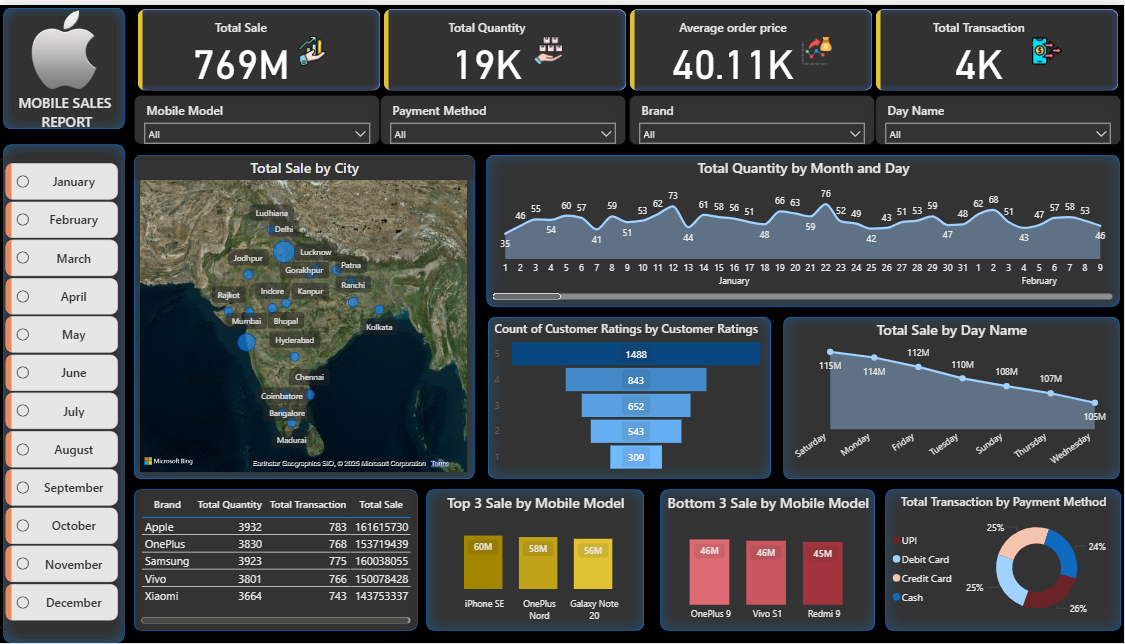

The dashboard page shown, as its layout file describes it:
{"tool":"powerbi","page":{"name":"Page 1","canvas":[1500,850],"ordinal":0},"visuals":[{"type":"shape","box":[5,186,161,664],"z":0},{"type":"shape","box":[5,3.3,161,161],"z":1000},{"type":"advancedSlicerVisual","fields":{"Values":["Sheet1.Date.Variation.Date Hierarchy.Month"]},"box":[0,202,168,632],"z":2000},{"type":"cardVisual","fields":{"Data":["Sheet1.Total Sale","Sheet1.Total Quantity","Sheet1.Average","Sheet1.Total Transaction"]},"box":[179.4,0,1319.9,119.6],"z":3000},{"type":"map","fields":{"Category":["Sheet1.City"],"Size":["Sheet1.Total Sale"]},"box":[179.4,199.3,454,431.8],"z":4000},{"type":"clusteredColumnChart","title":"Top 5 Sale by Mobile Model","fields":{"Category":["Sheet1.Mobile Model"],"Y":["Sheet1.Total Sale"]},"box":[652.5,647.5,377.5,202.5],"z":5000},{"type":"donutChart","fields":{"Category":["Sheet1.Payment Method"],"Y":["Sheet1.Total Transaction"]},"box":[1045,415,450,215],"z":6000},{"type":"funnel","fields":{"Category":["Sheet1.Customer Ratings"],"Y":["CountNonNull(Sheet1.Customer Ratings)"]},"box":[652.5,415,377.5,215],"z":7000},{"type":"areaChart","fields":{"Category":["Sheet1.Day Name"],"Y":["Sheet1.Total Sale"]},"box":[1045.3,646.7,449.6,203.7],"z":8000},{"type":"tableEx","fields":{"Values":["Sheet1.Brand","Sheet1.Total Quantity","Sheet1.Total Transaction","Sheet1.Total Sale"]},"box":[179.4,646.7,454,203.7],"z":9000},{"type":"slicer","fields":{"Values":["Sheet1.Mobile Model"]},"box":[180,120,328,66],"z":10000},{"type":"slicer","fields":{"Values":["Sheet1.Payment Method"]},"box":[507.1,119.6,327.8,66.4],"z":11000},{"type":"slicer","fields":{"Values":["Sheet1.Day Name"]},"box":[1167.1,119.6,327.8,66.4],"z":12000},{"type":"slicer","fields":{"Values":["Sheet1.Brand"]},"box":[839.3,119.6,327.8,66.4],"z":13000},{"type":"lineChart","fields":{"Y":["Sheet1.Total Quantity"],"Category":["Sheet1.Date.Variation.Date Hierarchy.Month","Sheet1.Date.Variation.Date Hierarchy.Day"]},"box":[652.5,200,842.5,200],"z":14000},{"type":"image","box":[6,10,148,150],"z":15000}]}

Visuals, with their boxes in screenshot pixels (x1, y1, x2, y2), scaled from the page's 1500x850 canvas onto the 1125x644 screenshot:
shape: detection(4, 141, 124, 643)
shape: detection(4, 3, 124, 124)
advancedSlicerVisual - Sheet1.Date.Variation.Date Hierarchy.Month: detection(0, 153, 126, 632)
cardVisual - Sheet1.Total Sale x Sheet1.Total Quantity: detection(135, 0, 1124, 91)
map - Sheet1.City x Sheet1.Total Sale: detection(135, 151, 475, 478)
"Top 5 Sale by Mobile Model" clusteredColumnChart: detection(489, 491, 772, 643)
donutChart - Sheet1.Payment Method x Sheet1.Total Transaction: detection(784, 314, 1121, 477)
funnel - Sheet1.Customer Ratings x CountNonNull(Sheet1.Customer Ratings): detection(489, 314, 772, 477)
areaChart - Sheet1.Day Name x Sheet1.Total Sale: detection(784, 490, 1121, 643)
tableEx - Sheet1.Brand x Sheet1.Total Quantity: detection(135, 490, 475, 643)
slicer - Sheet1.Mobile Model: detection(135, 91, 381, 141)
slicer - Sheet1.Payment Method: detection(380, 91, 626, 141)
slicer - Sheet1.Day Name: detection(875, 91, 1121, 141)
slicer - Sheet1.Brand: detection(629, 91, 875, 141)
lineChart - Sheet1.Total Quantity x Sheet1.Date.Variation.Date Hierarchy.Month: detection(489, 152, 1121, 303)
image: detection(4, 8, 116, 121)
